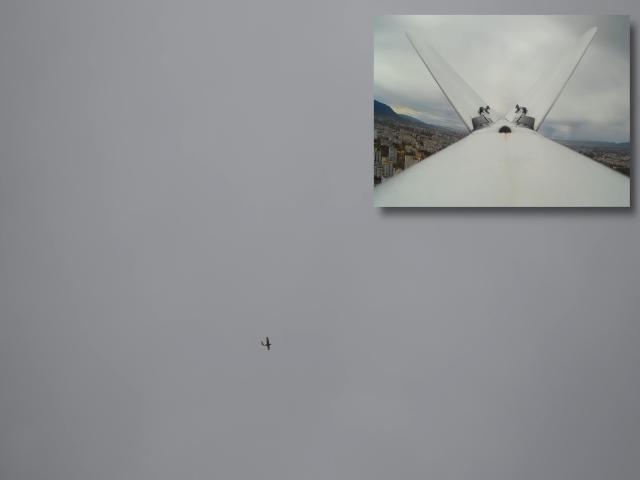plane: (262, 336, 272, 353)
